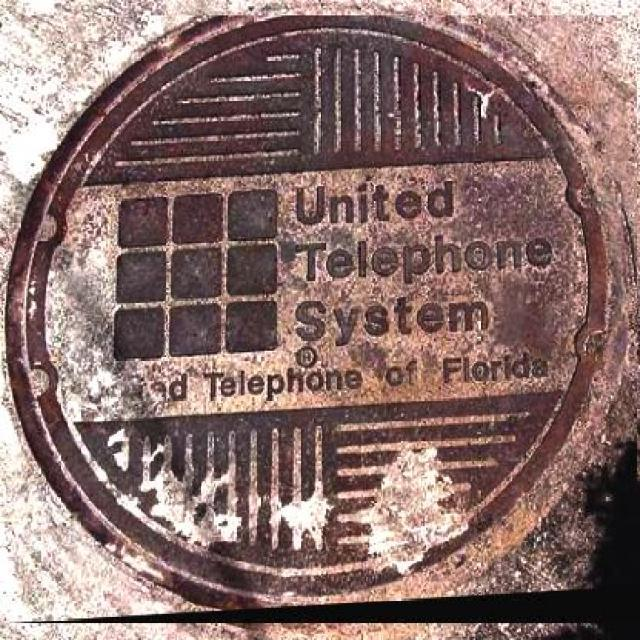Manhole: (10, 16, 638, 624)
